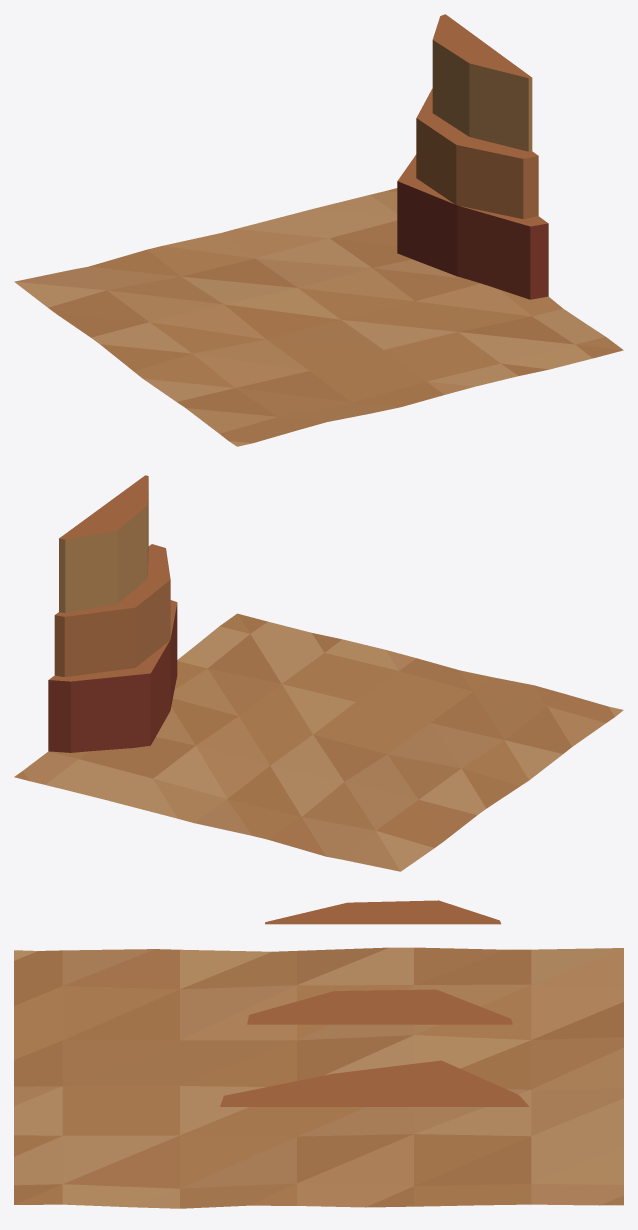
3 renders of one model, top to bottom at view 1: azimuth 30°, elevation 25°; view 2: azimuth 150°, elevation 25°; view 3: azimuth 270°, elevation 25°, orthographic. The views are drawn at different scales.
Visible parts, largest first — view 1: baked; view 2: baked; view 3: baked.
Part boxes in pixels (x1,y1,x2,y2): baked: (14,14,623,446); baked: (14,475,623,871); baked: (14,900,623,1208).
Bounding box in the file's own units: 62.5 × 32.92 × 62.5.
